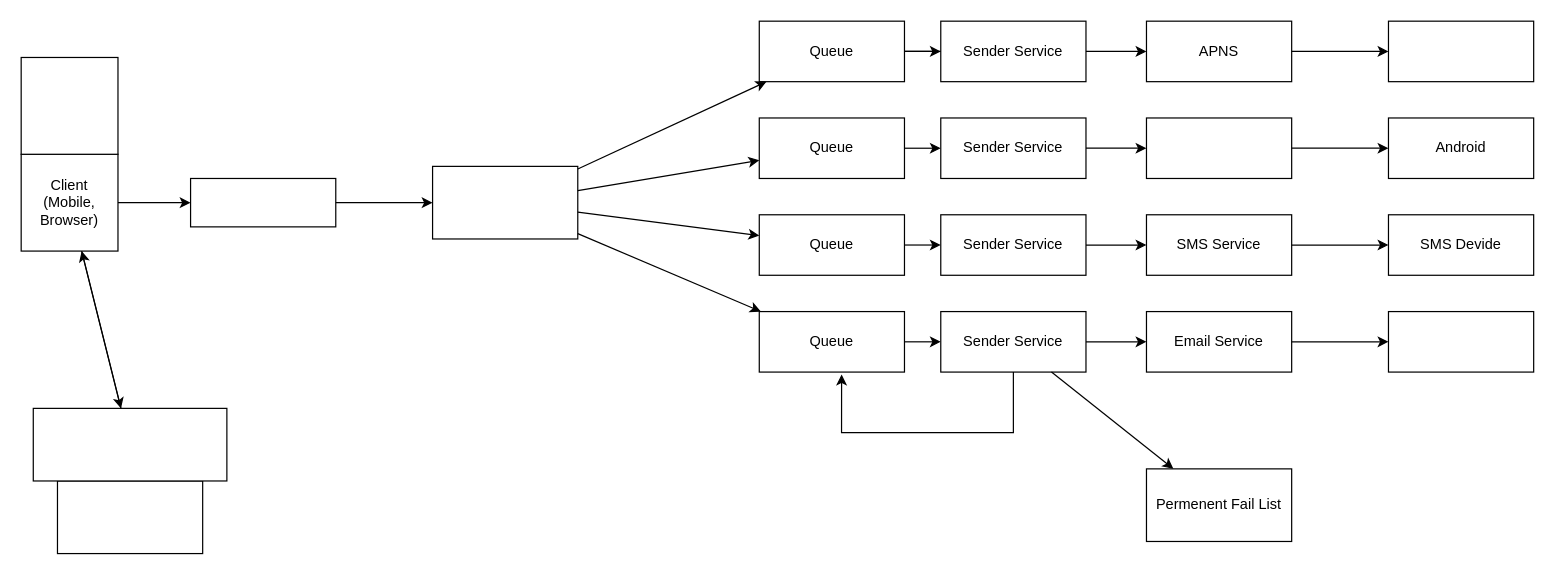
This 1555x575 diagram has some shape labels left out. The shapes that lost their labels are listed below. From the top down, each one's centre as x and y in pixels, then its label:
At (1460,51): "iPhone".
At (69,105): "Notification Scheduler".
At (1218,147): "FMS".
At (262,202): "Load Balancer".
At (504,202): "Notification Sender Service".
At (1460,341): "Email Device".
At (129,444): "Receiver Information (Phone Number, Email, Device Token, User Name)".
At (129,517): "Message Storage".
